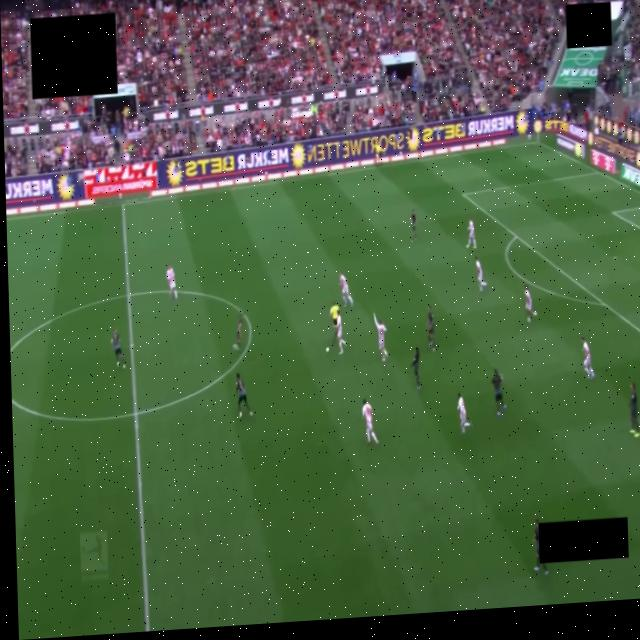ball: (325, 347, 328, 353)
player: (533, 518, 548, 575), (362, 400, 378, 445), (236, 374, 252, 418), (491, 369, 505, 416), (373, 314, 387, 361), (110, 328, 125, 368), (457, 394, 471, 433), (580, 338, 593, 379), (630, 383, 639, 438), (334, 312, 345, 354), (339, 274, 353, 306), (524, 286, 535, 323), (475, 257, 486, 291), (165, 266, 176, 300), (426, 306, 434, 351), (411, 347, 419, 390), (233, 316, 242, 350), (466, 220, 475, 248), (410, 210, 416, 242)
referee: (330, 302, 339, 326)
